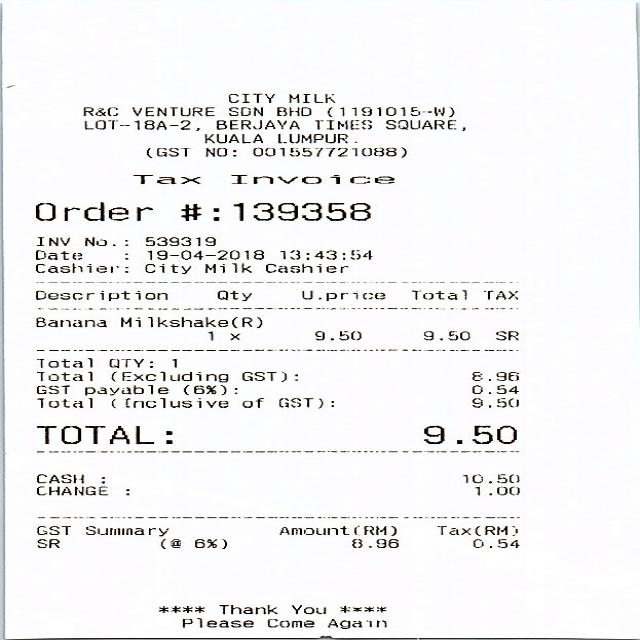text: (180, 202, 369, 220), (33, 424, 154, 445), (33, 201, 151, 220), (420, 423, 516, 445), (229, 173, 393, 184), (250, 146, 404, 157), (119, 316, 260, 328), (33, 290, 165, 301), (325, 105, 452, 116), (111, 370, 226, 382), (111, 397, 226, 408), (82, 120, 197, 130), (155, 249, 262, 259), (434, 524, 516, 536), (277, 249, 371, 259), (82, 384, 166, 395), (300, 290, 383, 301), (85, 525, 166, 536), (384, 119, 464, 130), (215, 119, 298, 129), (130, 106, 212, 116), (34, 316, 105, 327), (130, 173, 200, 184), (264, 263, 346, 272), (34, 262, 105, 272), (276, 133, 346, 143), (144, 236, 214, 246), (36, 485, 106, 495), (278, 525, 348, 535), (180, 618, 252, 627), (218, 603, 275, 614), (240, 371, 296, 382), (34, 396, 90, 407), (326, 618, 384, 628), (204, 133, 261, 143), (461, 473, 518, 483), (314, 119, 370, 129), (34, 357, 90, 367), (34, 370, 90, 380), (181, 384, 227, 396), (278, 397, 324, 409), (312, 329, 360, 340), (143, 263, 189, 274), (422, 329, 468, 340), (266, 617, 312, 628), (352, 524, 394, 536), (410, 290, 464, 299), (107, 357, 151, 368), (469, 370, 517, 380), (469, 384, 517, 394), (469, 397, 517, 407), (470, 538, 518, 548), (33, 249, 80, 259), (203, 262, 250, 272), (35, 473, 82, 483), (227, 92, 273, 102), (286, 93, 332, 103), (472, 485, 518, 495), (144, 147, 188, 157), (349, 538, 397, 547), (216, 289, 250, 301), (288, 604, 324, 614), (81, 106, 116, 116), (274, 106, 309, 116), (35, 525, 69, 535), (192, 538, 225, 548), (36, 236, 68, 246), (206, 330, 238, 340), (36, 384, 68, 394), (84, 236, 110, 248), (482, 290, 516, 299), (204, 146, 234, 156), (228, 106, 261, 115), (493, 329, 517, 340), (241, 396, 262, 407), (34, 538, 57, 548), (160, 538, 179, 548), (172, 358, 174, 367)
